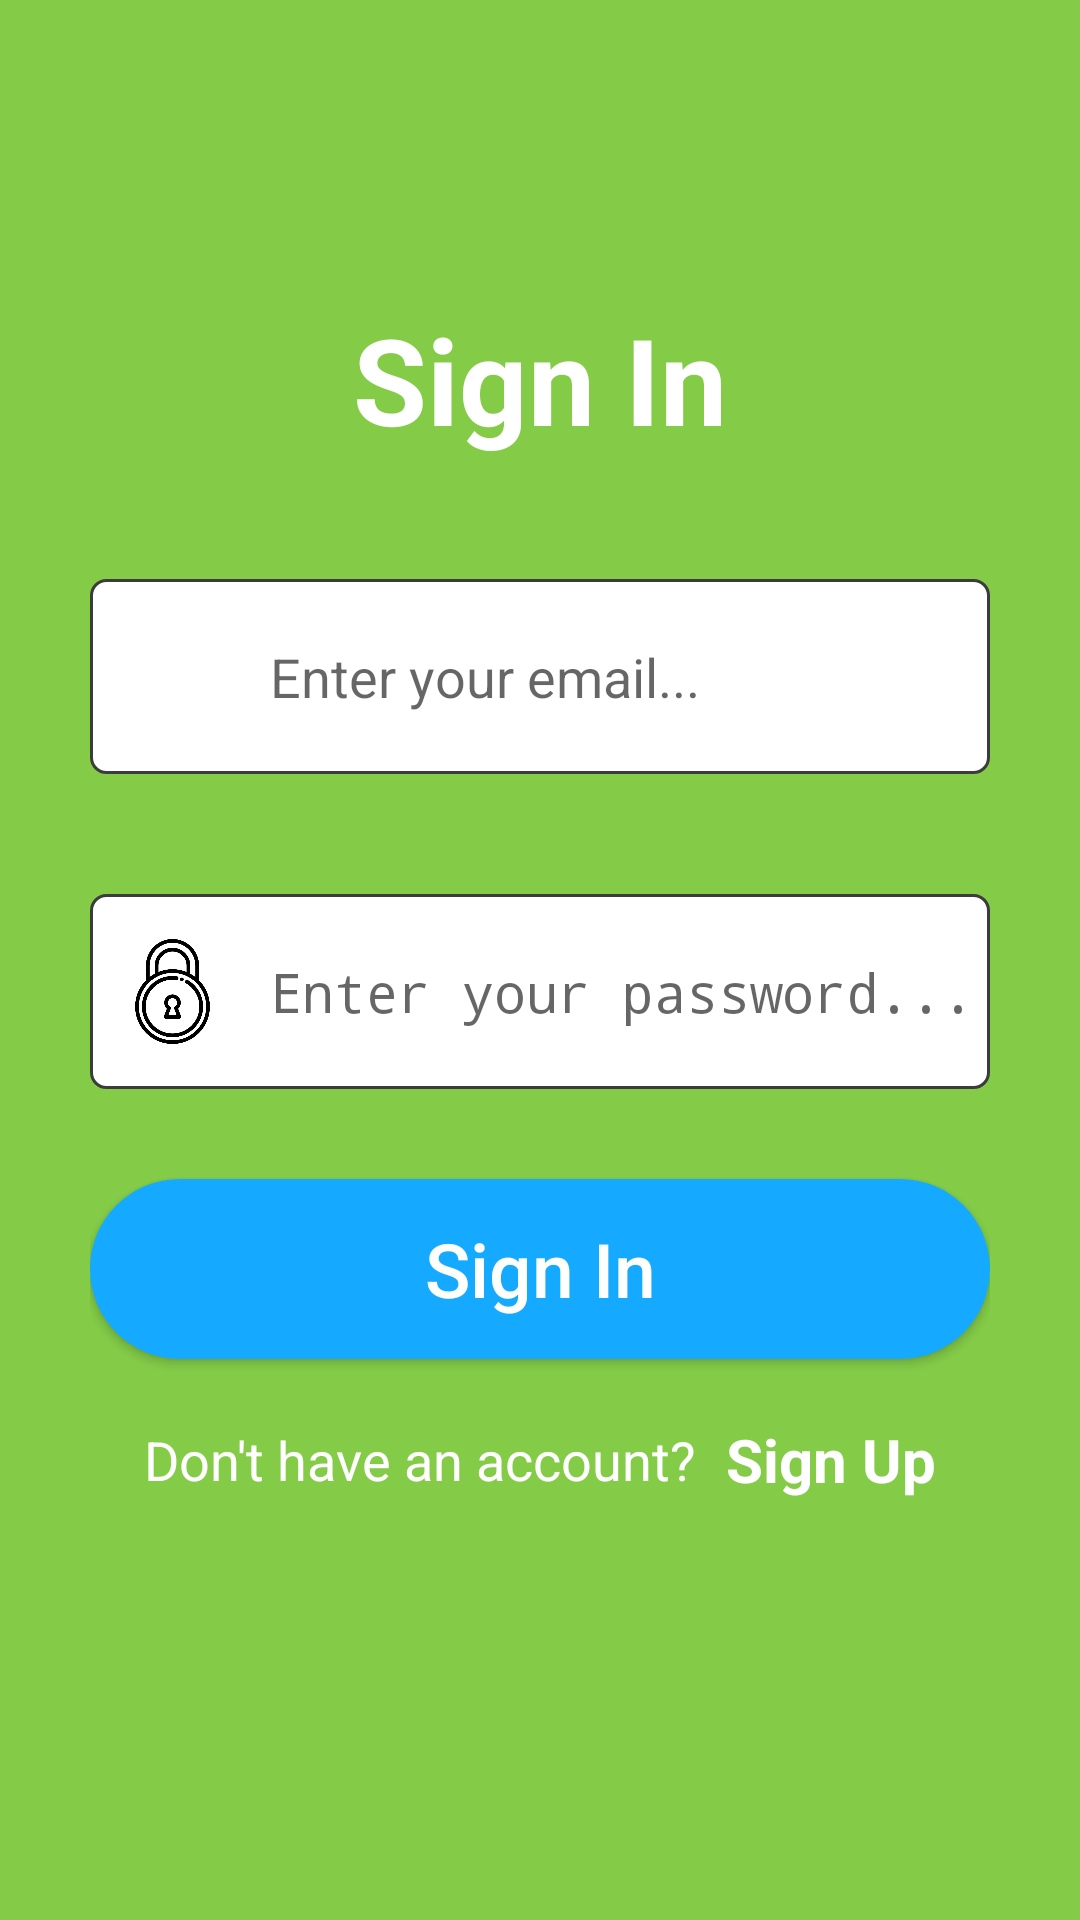

Locate icon controls on the screen. Image size 1080w x 1920h, boxes as (x1, y1, x2, y2).
padlock: (135, 939, 210, 1044)
